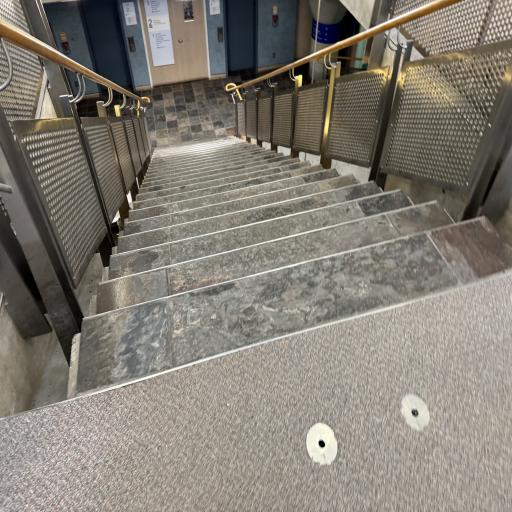Stairs: (76, 137, 512, 393)
